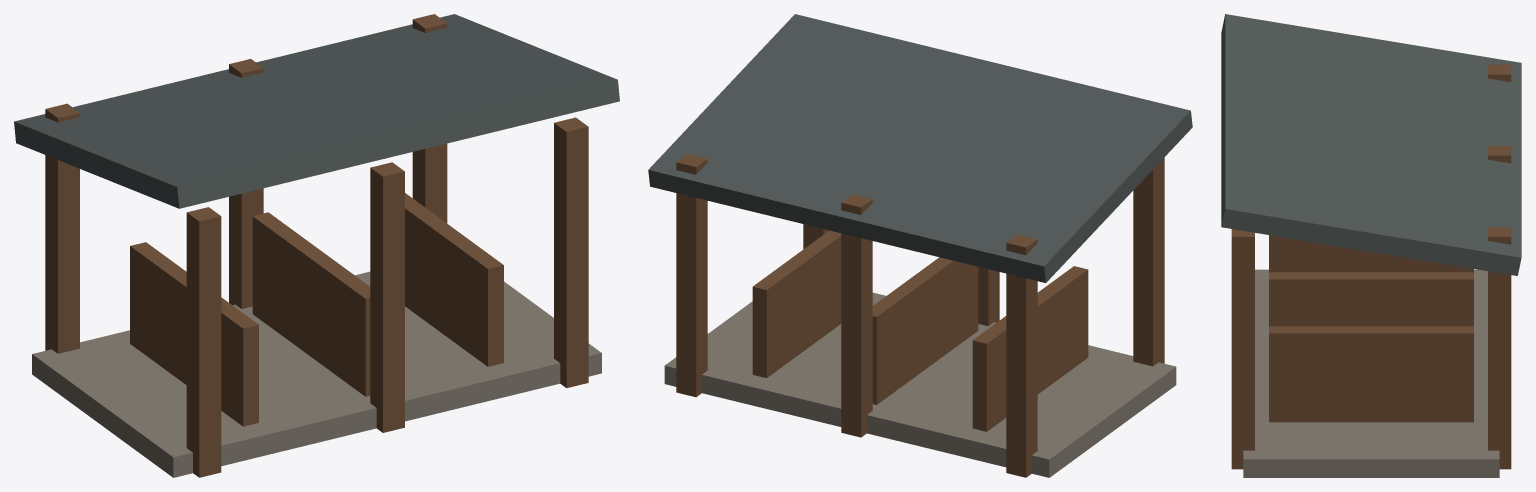
File: CompostShed.glb
3 renders of one model, left to right at view 1: azimuth 30°, elevation 25°; view 2: azimuth 150°, elevation 25°; view 3: azimuth 270°, elevation 25°, orthographic. The views are drawn at different scales.
Parts seen in each view (by area): view 1: hand-pump-static-compost-shed-timber, hand-pump-static-compost-shed-roof, hand-pump-static-compost-shed-stone; view 2: hand-pump-static-compost-shed-roof, hand-pump-static-compost-shed-timber, hand-pump-static-compost-shed-stone; view 3: hand-pump-static-compost-shed-roof, hand-pump-static-compost-shed-timber, hand-pump-static-compost-shed-stone.
Part boxes in pixels (bbox=[...]): hand-pump-static-compost-shed-timber: bbox=[45, 14, 588, 477]; hand-pump-static-compost-shed-roof: bbox=[14, 14, 619, 208]; hand-pump-static-compost-shed-stone: bbox=[32, 271, 601, 477]; hand-pump-static-compost-shed-roof: bbox=[648, 14, 1192, 282]; hand-pump-static-compost-shed-timber: bbox=[676, 154, 1164, 477]; hand-pump-static-compost-shed-stone: bbox=[664, 292, 1176, 477]; hand-pump-static-compost-shed-roof: bbox=[1221, 14, 1521, 275]; hand-pump-static-compost-shed-timber: bbox=[1231, 64, 1511, 469]; hand-pump-static-compost-shed-stone: bbox=[1243, 269, 1499, 477].
Size of the model in its own units: 3.6 by 2.34 by 2.34.
